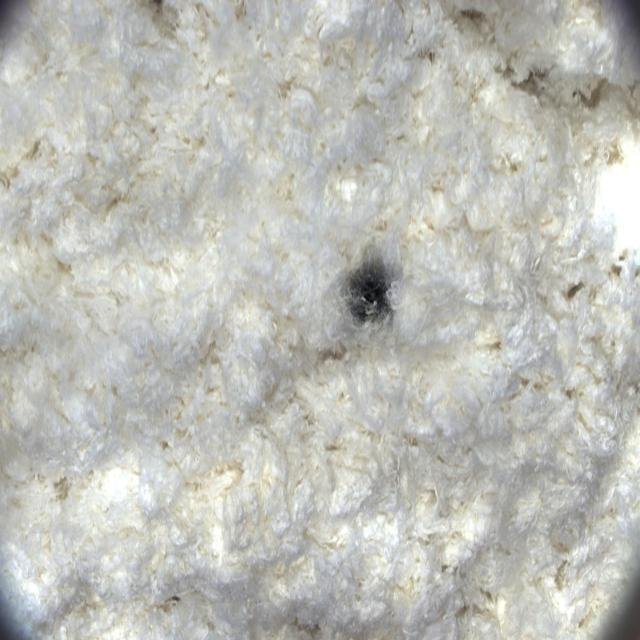dust: (321, 212, 428, 378)
